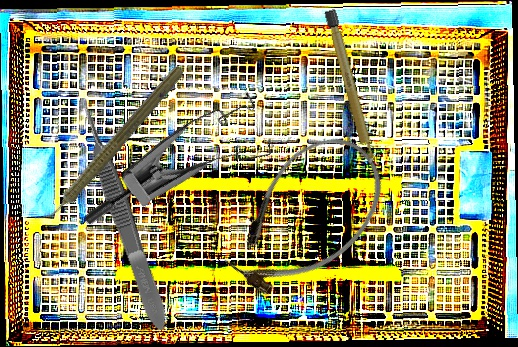Cannula: (207, 117, 405, 317)
Handpiece: (32, 59, 188, 235)
Scalpel Handle: (323, 7, 378, 169)
Speculum: (80, 65, 292, 285)
Tissue Forceps: (76, 102, 172, 334)
